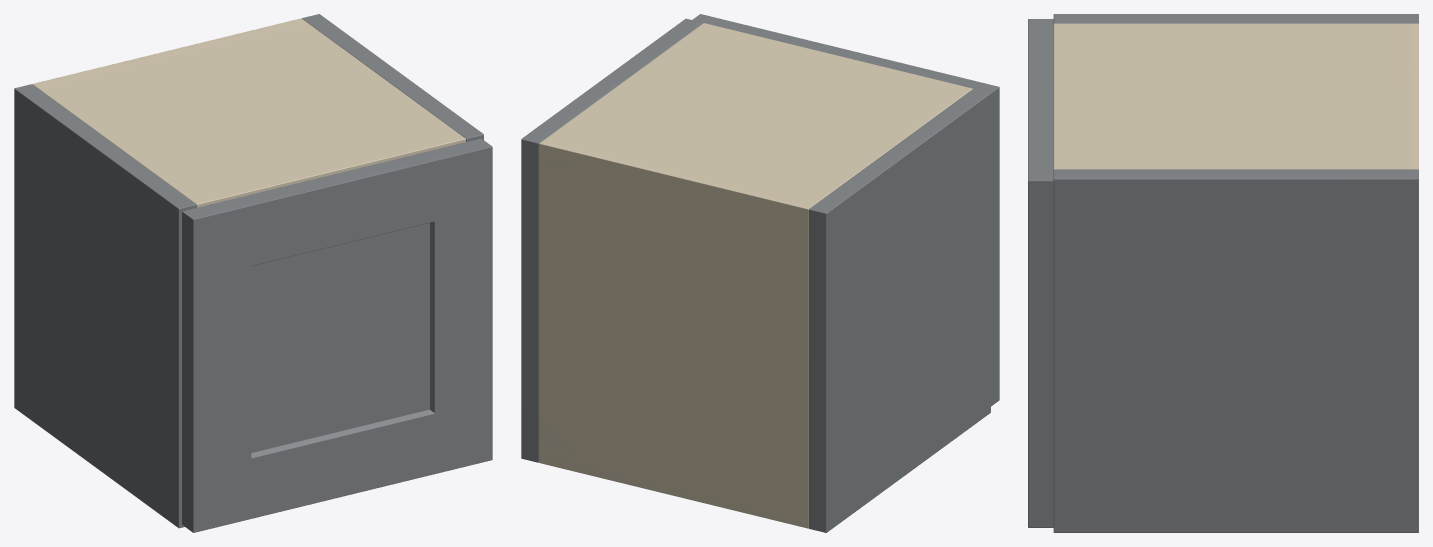
Rendered from oppein-ply-gss-w1212.glb.
The picture shows the model from 3 angles, left to right: view 1: azimuth 30°, elevation 25°; view 2: azimuth 150°, elevation 25°; view 3: azimuth 270°, elevation 25°; orthographic projection. The views are drawn at different scales.
Visible parts, largest first — view 1: Door, Cabinet side, Cabinet top, Cabinet side.001, Cabinet back; view 2: Cabinet back, Cabinet side, Cabinet top, Cabinet side.001, Door, Cabinet bottom; view 3: Cabinet side.001, Cabinet top, Door, Cabinet side, Cabinet back.
Part boxes in pixels (bbox=[...]): Door: bbox=[182, 138, 492, 532]; Cabinet side: bbox=[14, 84, 196, 528]; Cabinet top: bbox=[39, 21, 465, 207]; Cabinet side.001: bbox=[302, 14, 483, 141]; Cabinet back: bbox=[32, 18, 307, 88]; Cabinet back: bbox=[539, 139, 814, 528]; Cabinet side: bbox=[808, 89, 990, 532]; Cabinet top: bbox=[539, 23, 972, 225]; Cabinet side.001: bbox=[521, 18, 703, 462]; Door: bbox=[692, 14, 999, 406]; Cabinet bottom: bbox=[539, 445, 808, 528]; Cabinet side.001: bbox=[1053, 169, 1418, 532]; Cabinet top: bbox=[1053, 23, 1418, 169]; Door: bbox=[1028, 19, 1053, 527]; Cabinet side: bbox=[1053, 14, 1418, 23]; Cabinet back: bbox=[1404, 23, 1418, 169].
Size of the model in its own units: 0.3048 by 0.3048 by 0.3048.
